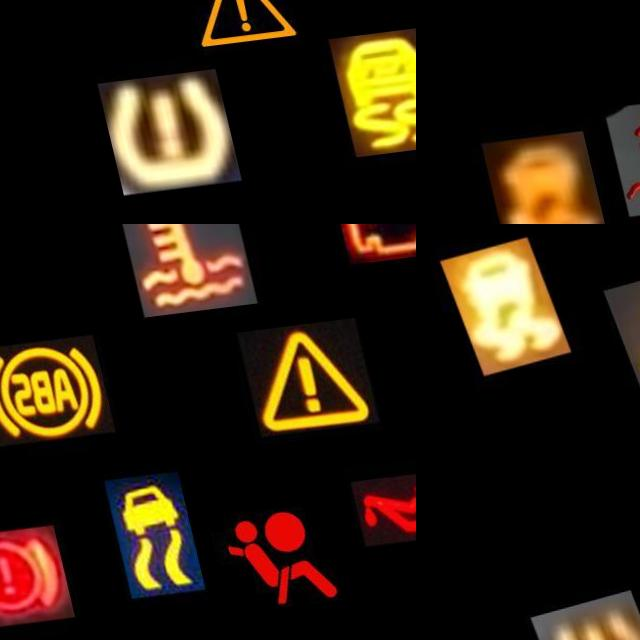Central Warning lamp: (220, 331, 357, 447), (153, 0, 293, 70), (592, 266, 640, 393)
Engine cooling system: (106, 224, 241, 325), (585, 101, 640, 220)
